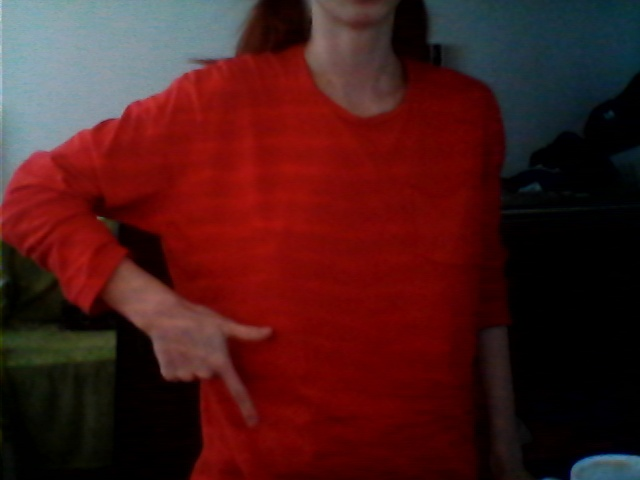policia: (145, 262, 285, 438)
